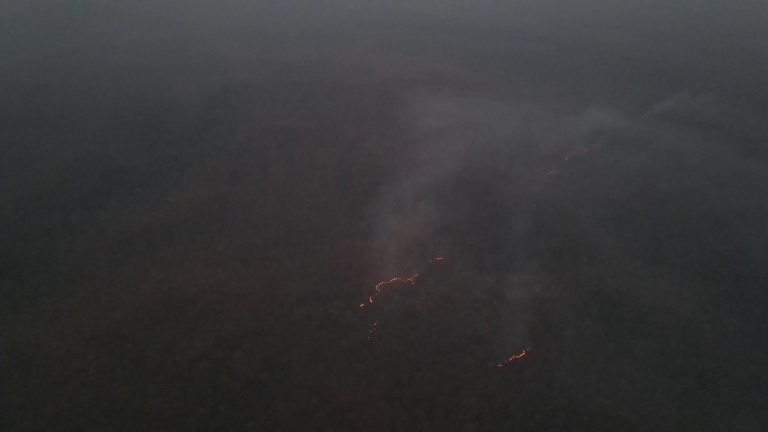fire: (359, 271, 421, 337), (494, 342, 534, 369), (427, 252, 450, 265)
smoke: (347, 79, 542, 258)
